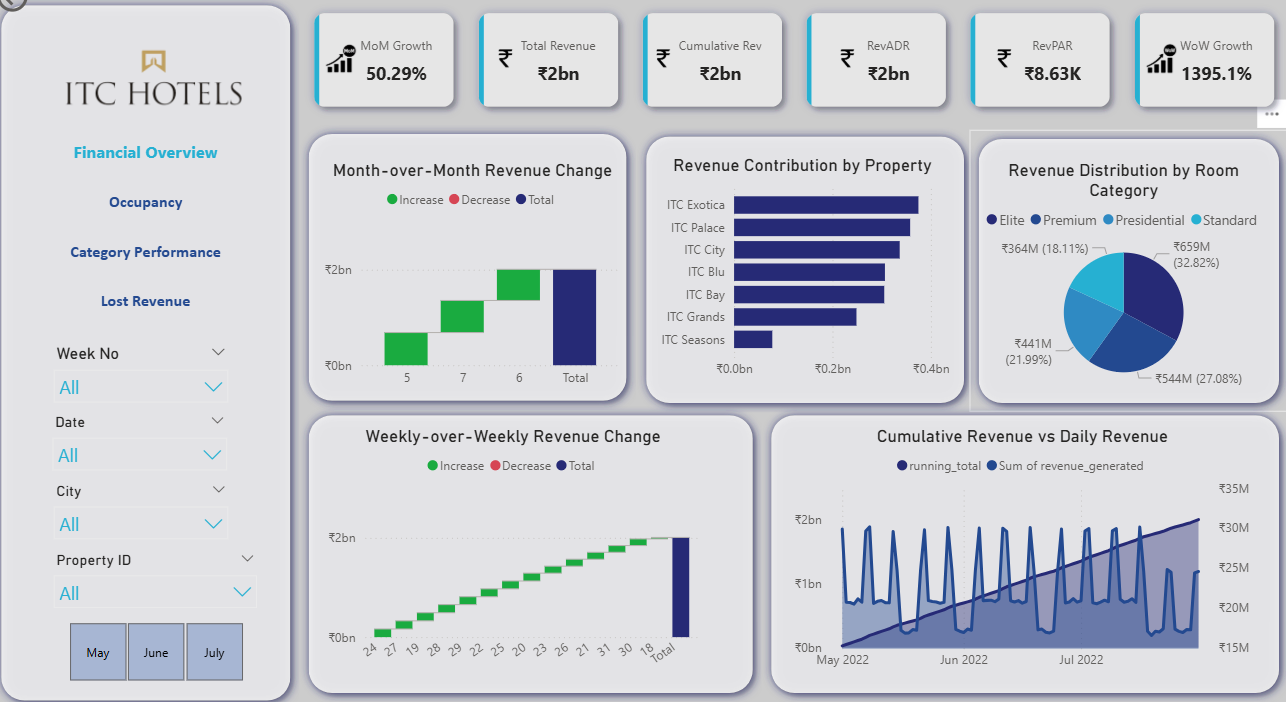

The dashboard page shown, as its layout file describes it:
{"tool":"powerbi","page":{"name":" Financial Overview ","canvas":[1280,720],"ordinal":0},"visuals":[{"type":"shape","box":[633.1,148.5,330.1,279.8],"z":0},{"type":"shape","box":[959.5,150.9,312.9,277.3],"z":1000},{"type":"shape","box":[755.8,422.1,516.6,290.8],"z":2000},{"type":"shape","box":[301.8,422.1,454,290.8],"z":3000},{"type":"shape","box":[301.8,146,330,280],"z":4000},{"type":"shape","box":[0,19.6,301.8,700.6],"z":5000},{"type":"barChart","title":"Revenue Contribution by Property","fields":{"Category":["Hotels.property_name"],"Y":["Table.Revenue_generated"]},"box":[646.6,175.5,298.2,228.2],"z":6000},{"type":"slicer","fields":{"Values":["Hotels.property_id"]},"box":[50.3,559.5,219.6,68.7],"z":7000},{"type":"actionButton","box":[0,0,100,40],"z":8000},{"type":"slicer","fields":{"Values":["Hotels.city"]},"box":[50.3,492,191.4,67.5],"z":9000},{"type":"slicer","fields":{"Values":["Calendar.Date"]},"box":[49.1,424.5,191.4,67.5],"z":10000},{"type":"slicer","fields":{"Values":["Calendar.Month_name"]},"box":[50.3,628.2,219.6,69.9],"z":11000},{"type":"slicer","fields":{"Values":["Calendar.Week_no"]},"box":[50.3,357.1,191.4,67.5],"z":12000},{"type":"waterfallChart","title":"Month-over-Month Revenue Change","fields":{"Y":["Sum(Bookings.revenue_generated)"],"Category":["Calendar.Months"]},"box":[321.5,180.4,300.6,231.9],"z":13000},{"type":"waterfallChart","title":"Weekly-over-Weekly Revenue Change","fields":{"Y":["Sum(Bookings.revenue_generated)"],"Category":["Calendar.Week_no"]},"box":[325.2,441.7,373,256.4],"z":14000},{"type":"areaChart","title":"Cumulative Revenue vs Daily Revenue","fields":{"Y":["dax.running_total"],"Y2":["Sum(Bookings.revenue_generated)"],"Category":["Calendar.Date"]},"box":[782.8,441.7,457.7,247.9],"z":15000},{"type":"pageNavigator","box":[50.3,152.1,201.2,186.5],"z":16000},{"type":"pieChart","title":"Revenue Distribution by Room Category","fields":{"Category":["rooms.room_class"],"Y":["Table.Revenue_generated"]},"box":[968.1,180.4,285.9,231.9],"z":17000},{"type":"image","box":[49.1,0,220.9,198.8],"z":18000},{"type":"cardVisual","fields":{"Data":["dax.mom_growth","Sum(Bookings.revenue_generated)","dax.running_total","dax.rev_ADR","dax.RevPAR","dax.wow_growth"]},"box":[299.4,19.6,980.4,126.4],"z":19000}]}

Visuals, with their boxes on the page's 1280x720 design canvas (x1, y1, x2, y2). These are canvas units, not pixel positions in the 1286x702 screenshot, which may show the page scaled, cropped or inside an application window:
shape: [x1=633, y1=148, x2=963, y2=428]
shape: [x1=960, y1=151, x2=1272, y2=428]
shape: [x1=756, y1=422, x2=1272, y2=713]
shape: [x1=302, y1=422, x2=756, y2=713]
shape: [x1=302, y1=146, x2=632, y2=426]
shape: [x1=0, y1=20, x2=302, y2=720]
"Revenue Contribution by Property" barChart: [x1=647, y1=176, x2=945, y2=404]
slicer - Hotels.property_id: [x1=50, y1=560, x2=270, y2=628]
actionButton: [x1=0, y1=0, x2=100, y2=40]
slicer - Hotels.city: [x1=50, y1=492, x2=242, y2=560]
slicer - Calendar.Date: [x1=49, y1=424, x2=240, y2=492]
slicer - Calendar.Month_name: [x1=50, y1=628, x2=270, y2=698]
slicer - Calendar.Week_no: [x1=50, y1=357, x2=242, y2=425]
"Month-over-Month Revenue Change" waterfallChart: [x1=322, y1=180, x2=622, y2=412]
"Weekly-over-Weekly Revenue Change" waterfallChart: [x1=325, y1=442, x2=698, y2=698]
"Cumulative Revenue vs Daily Revenue" areaChart: [x1=783, y1=442, x2=1240, y2=690]
pageNavigator: [x1=50, y1=152, x2=252, y2=339]
"Revenue Distribution by Room Category" pieChart: [x1=968, y1=180, x2=1254, y2=412]
image: [x1=49, y1=0, x2=270, y2=199]
cardVisual - dax.mom_growth x Sum(Bookings.revenue_generated): [x1=299, y1=20, x2=1280, y2=146]
